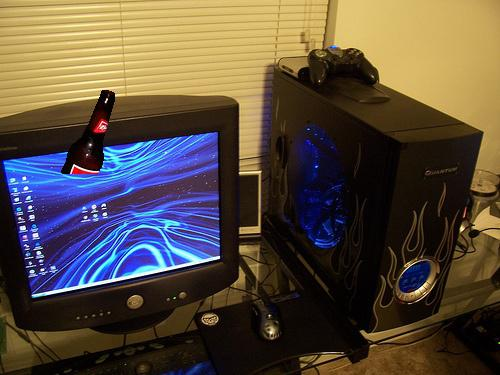tampered: (62, 91, 115, 174)
